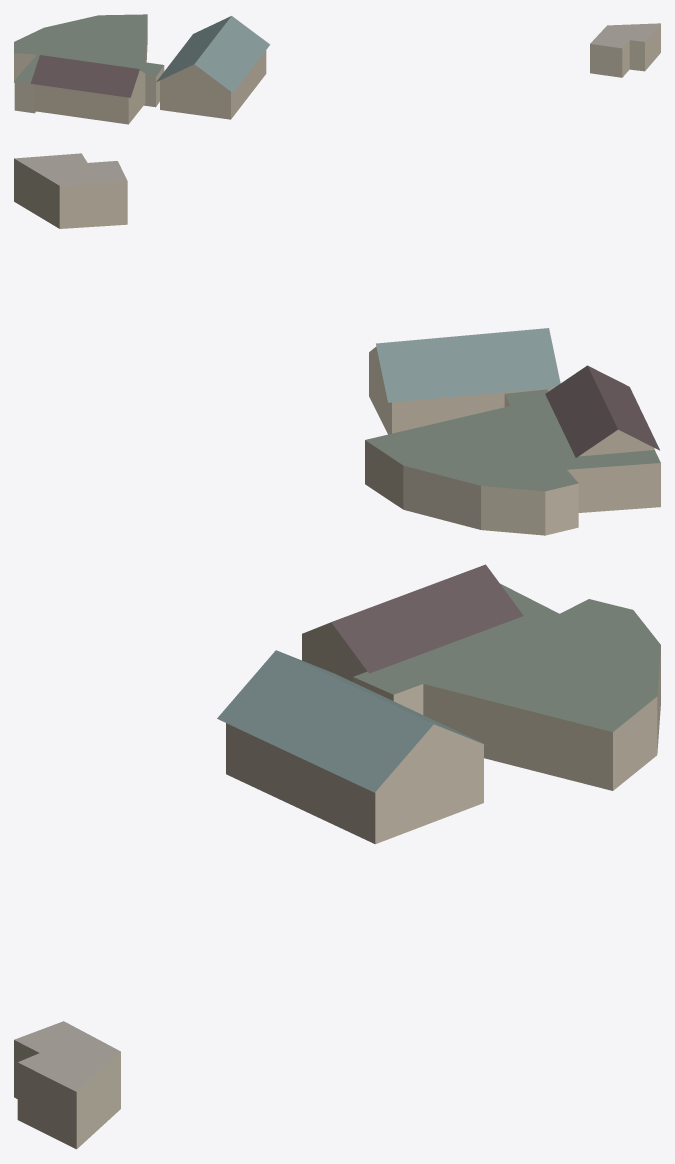
3 views of the same model, one above another, from view 1: azimuth 30°, elevation 25°; view 2: azimuth 150°, elevation 25°; view 3: azimuth 270°, elevation 25° (orthographic). The views are drawn at different scales.
Parts seen in each view (by area): view 1: tuile; view 2: tuile; view 3: tuile.
Boxes of the visible parts, <box> form: tuile: <box>14,14,660,124</box>; tuile: <box>14,153,660,535</box>; tuile: <box>14,564,660,1149</box>.
Bounding box in the file's own units: 66.6 × 6.2 × 35.1.
